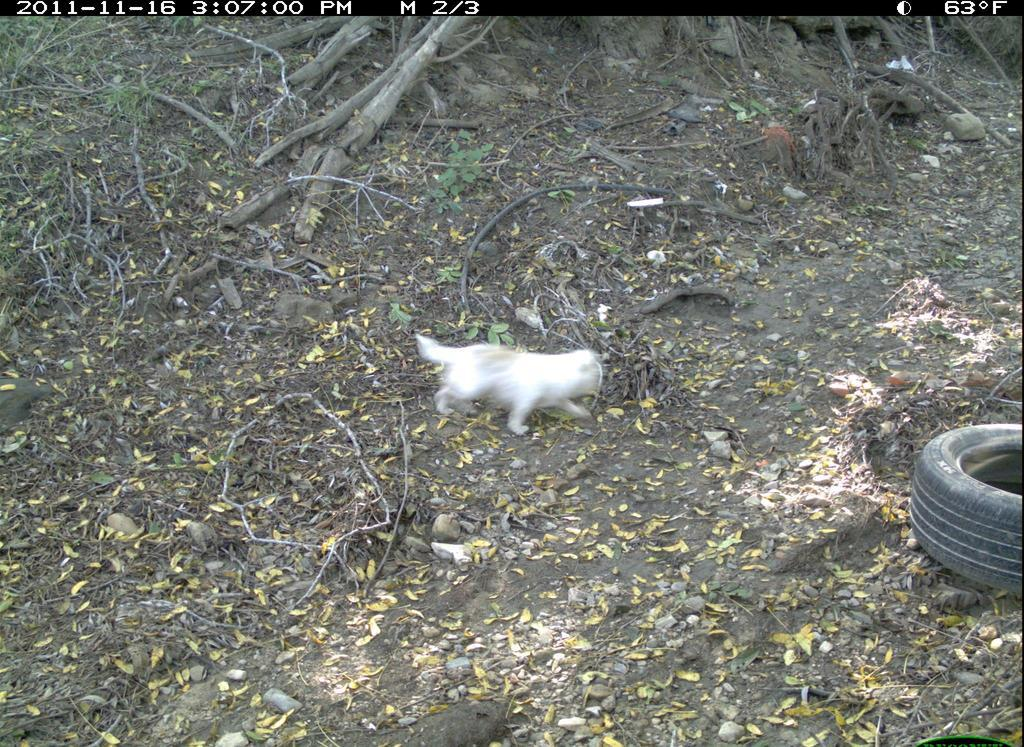dog: (392, 321, 619, 437)
